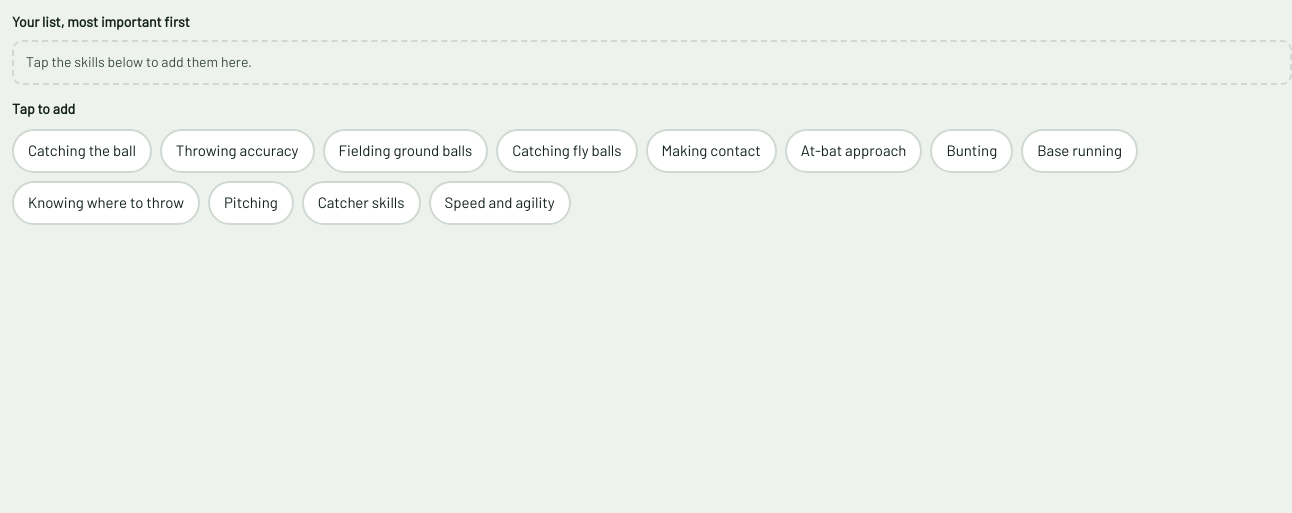
Scenario: NeedsRanker › moves a skill from the bank into the list, in the order tapped, with no limit
Click the button "Base running" at (1080,151), box [1021,129,1138,173]
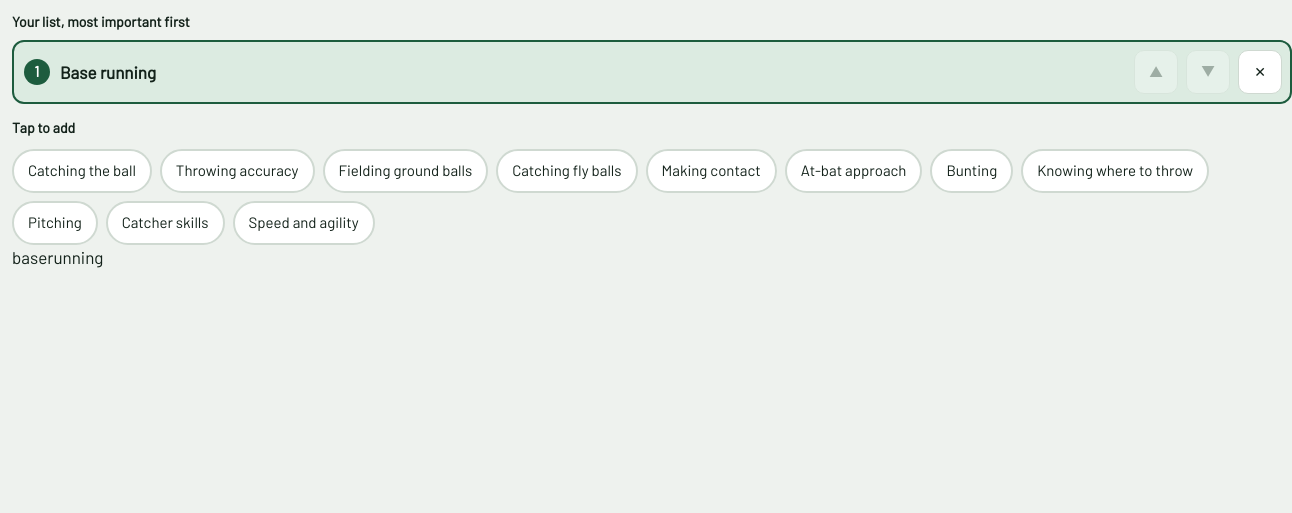
Click the button "Pitching" at (55,223), box [12,201,98,245]
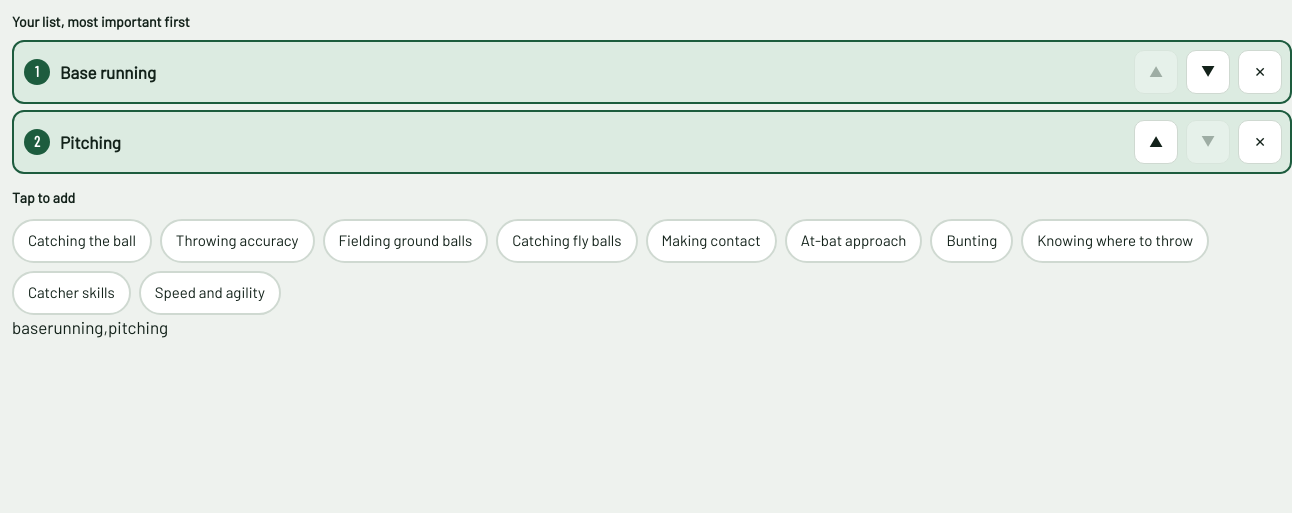
Click the button "Bunting" at (972,241), box [930,219,1013,263]
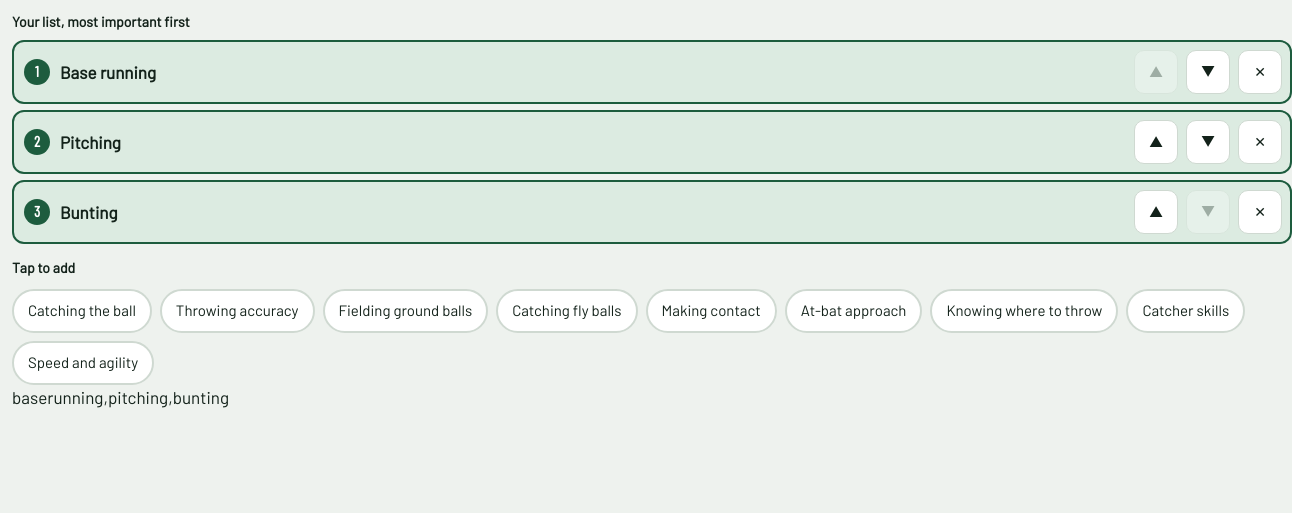
Click the button "Making contact" at (711,311), box [646,289,777,333]
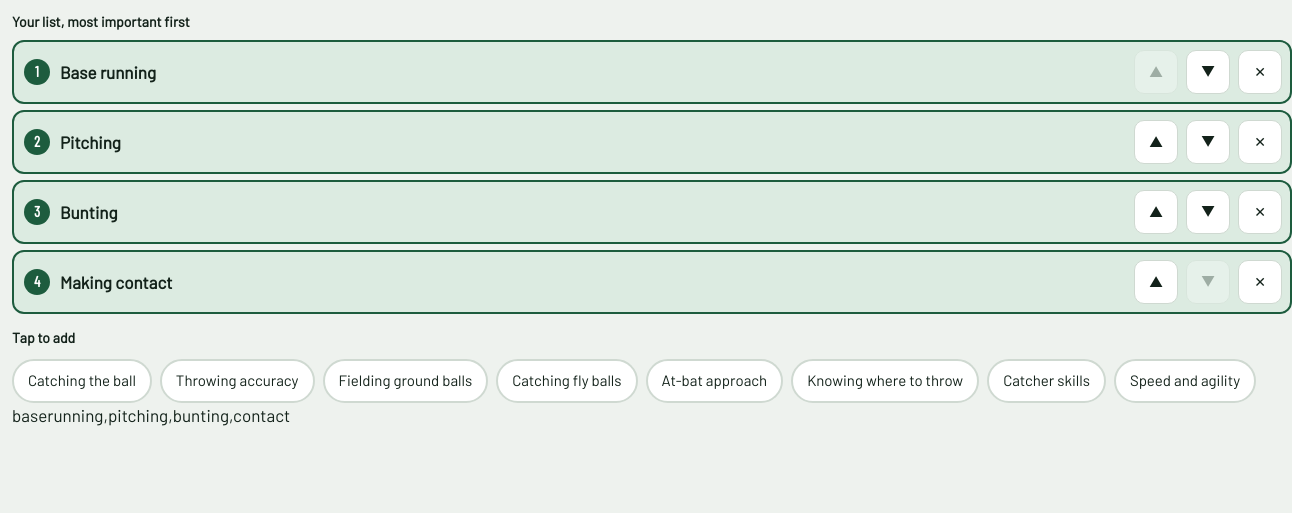
Click the button "Catching the ball" at (82,381), box [12,359,152,403]
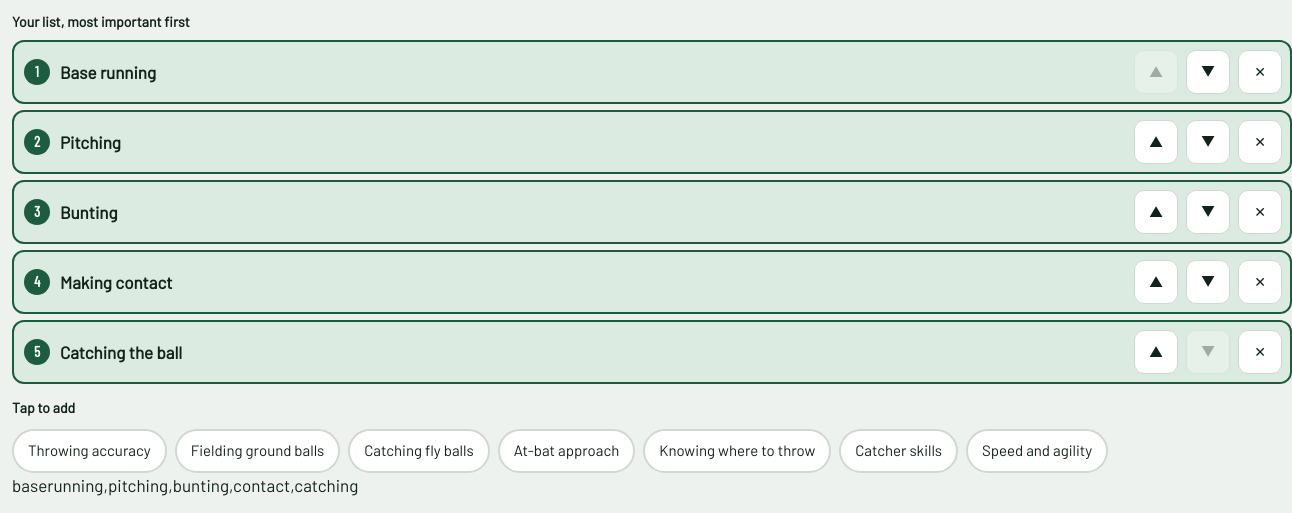
Expected: the list item "1 Base running ▲ ▼ ✕" is shown, [12,40,1291,104]
Expected: the text with test id "value" reads "baserunning,pitching,bunting,contact,catching", [12,475,358,495]
Expected: the number of list items is 5, [12,40,1291,104]; [12,110,1291,174]; [12,180,1291,244]; [12,250,1291,314]; [12,320,1291,384]
